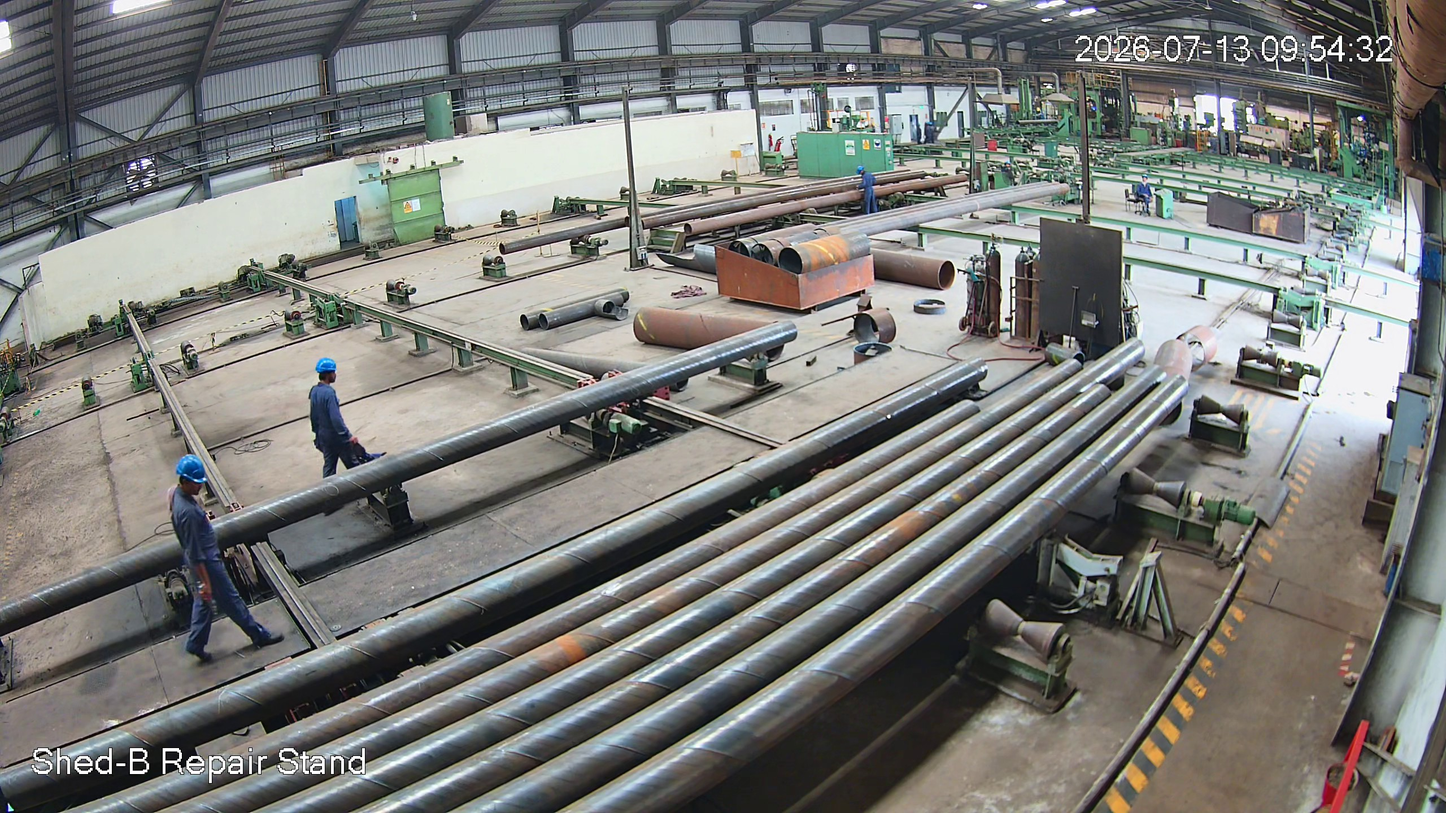Helmet: (166, 442, 211, 510), (307, 353, 352, 399), (856, 164, 865, 177)
Person: (155, 450, 295, 669), (300, 358, 372, 486), (855, 165, 878, 214)
